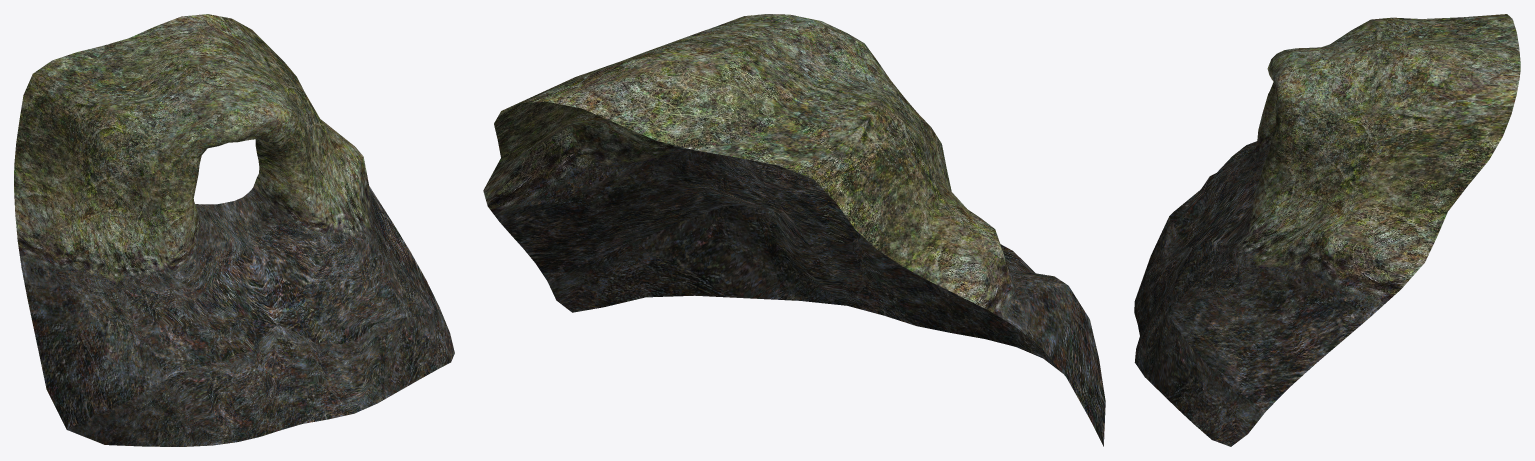
Rendered from thm_all_cave_s03_damprock_mirror_r0_mesh_l1.fbx.
3 renders of one model, left to right at view 1: azimuth 30°, elevation 25°; view 2: azimuth 150°, elevation 25°; view 3: azimuth 270°, elevation 25°, orthographic. The views are drawn at different scales.
Parts seen in each view (by area): view 1: mesh_node; view 2: mesh_node; view 3: mesh_node.
Part boxes in pixels (x1=…): mesh_node: x1=14, y1=14, x2=454, y2=446; mesh_node: x1=483, y1=14, x2=1105, y2=446; mesh_node: x1=1134, y1=14, x2=1520, y2=446.
Size of the model in its own units: 48.97 by 34.18 by 39.36.
